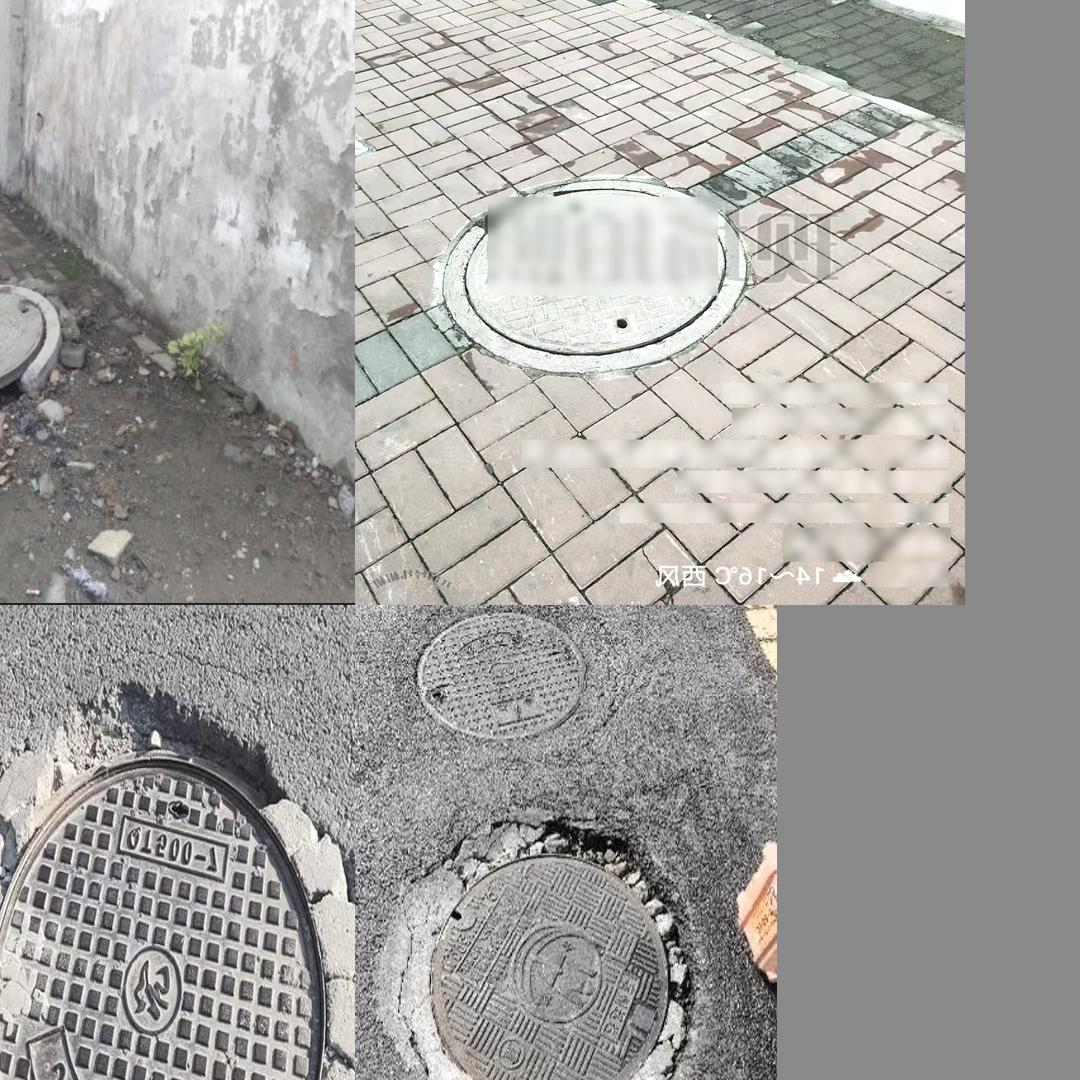circle: (0, 702, 342, 1080), (381, 820, 693, 1080), (438, 179, 752, 380), (0, 281, 64, 433)
good: (412, 611, 589, 741)
